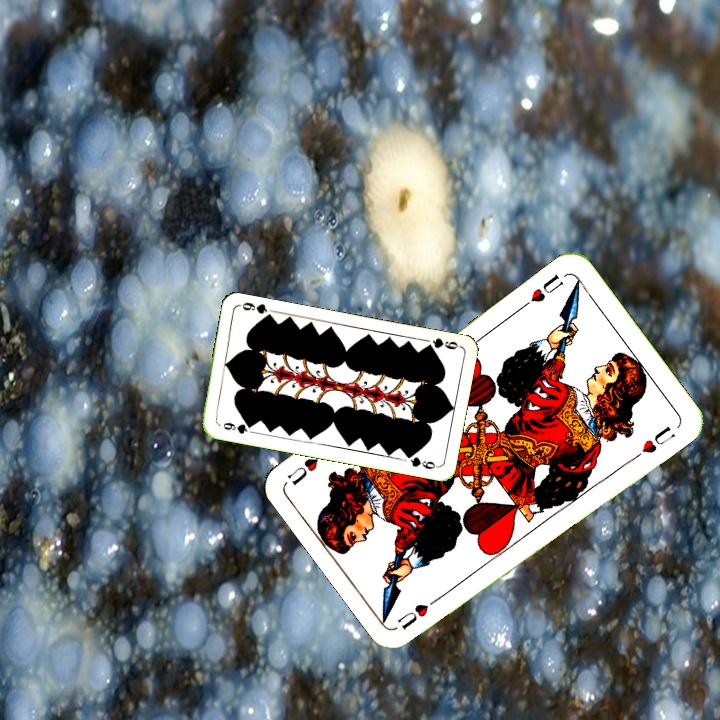G9: (421, 334, 462, 352), (219, 418, 255, 436)
HU: (393, 591, 445, 633), (518, 270, 566, 311)
